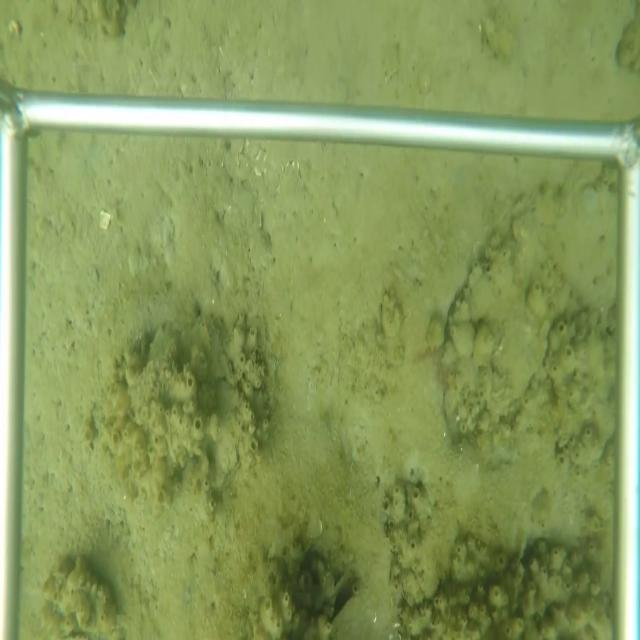Oyster-Indeterminate: (443, 182, 621, 456)
